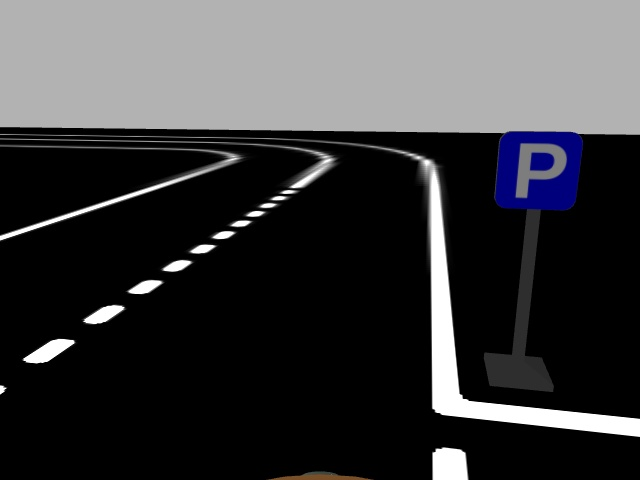parking: (492, 130, 585, 211)
